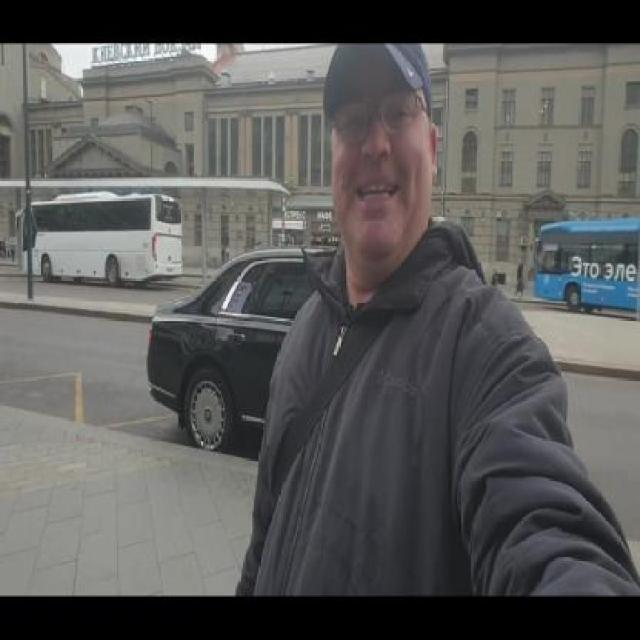bus: (24, 191, 190, 286), (536, 215, 640, 319)
